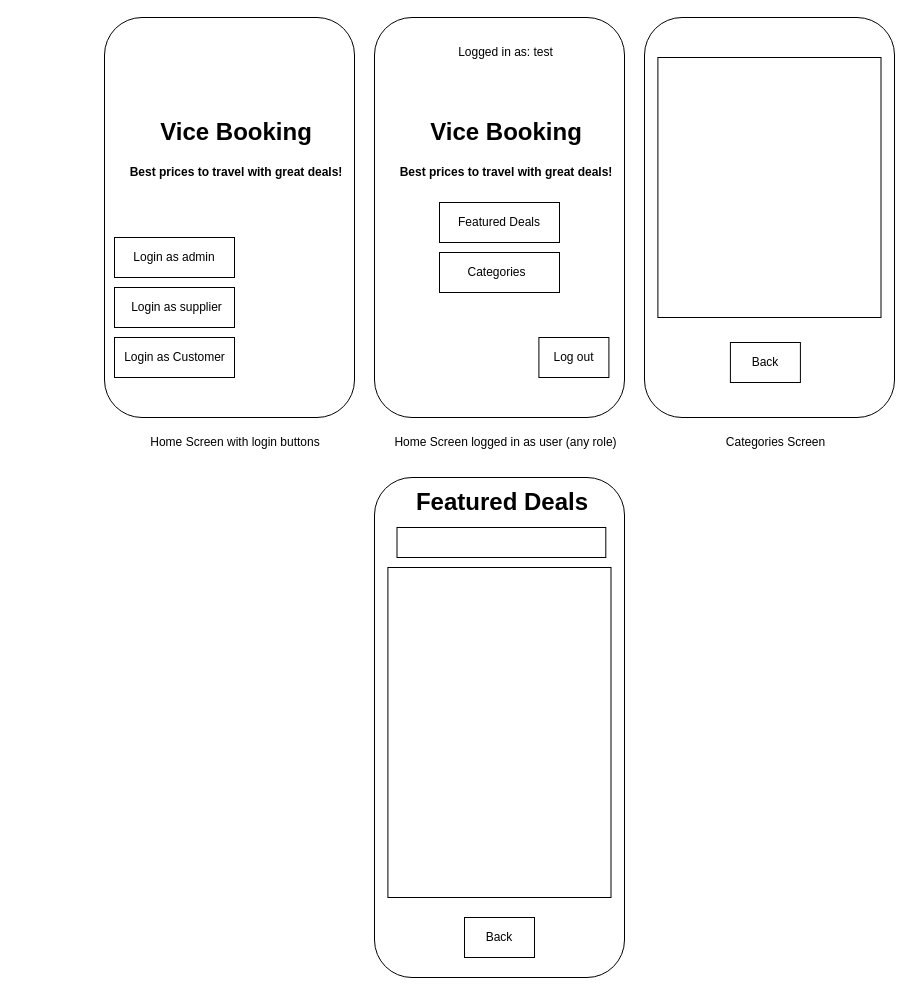
Some shapes in this 912 by 995 pixel diagram are drawn without their labels. Each missing label, with the box of its shape:
Recycler View showing all categories: (657, 56, 881, 318)
Recycler View showing all featured deals: (387, 566, 611, 898)
Search Categories: (396, 526, 606, 558)
